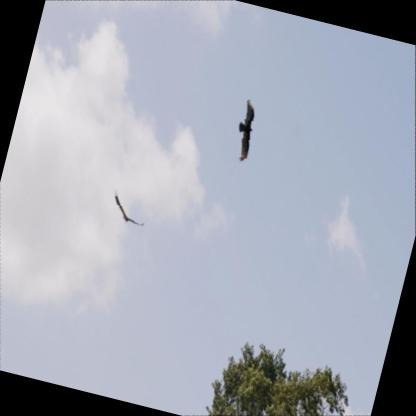bird: (223, 93, 271, 167), (104, 179, 155, 235)
